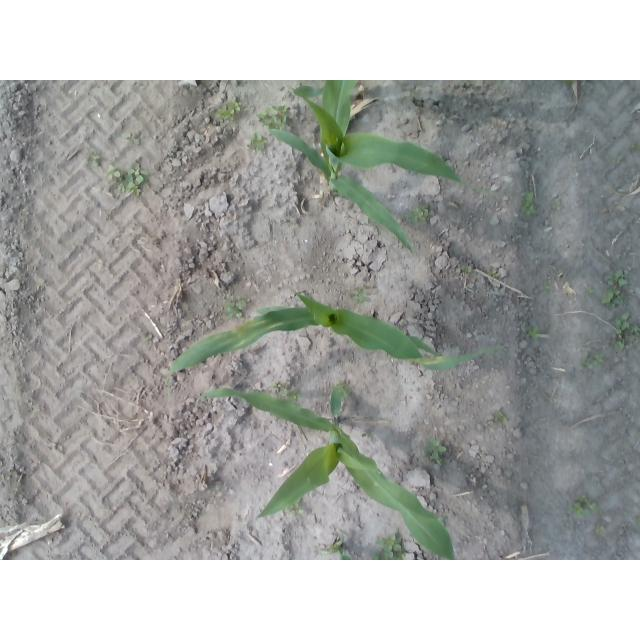Maize: (199, 384, 456, 561), (268, 81, 462, 252), (171, 291, 504, 374), (326, 541, 351, 560)
Weeds: (603, 269, 626, 307), (259, 105, 291, 127), (613, 325, 640, 349), (224, 297, 247, 320), (125, 161, 147, 184), (425, 440, 448, 461), (582, 351, 602, 369), (119, 181, 141, 196), (374, 543, 393, 560), (123, 131, 140, 147), (277, 381, 296, 395), (616, 311, 630, 330), (250, 135, 266, 150), (573, 501, 588, 516), (581, 495, 597, 509), (105, 167, 119, 182), (523, 193, 534, 212), (388, 537, 401, 552), (219, 107, 232, 121), (229, 102, 243, 115), (350, 292, 366, 303), (88, 154, 101, 165), (339, 385, 350, 397), (288, 505, 300, 516), (525, 327, 537, 338), (412, 210, 423, 221), (494, 411, 506, 421), (538, 282, 550, 292), (461, 265, 471, 275), (596, 520, 605, 531), (489, 269, 500, 278), (423, 209, 434, 218), (584, 283, 593, 293), (630, 143, 638, 154), (552, 201, 561, 210), (614, 157, 623, 165), (145, 333, 152, 340)
